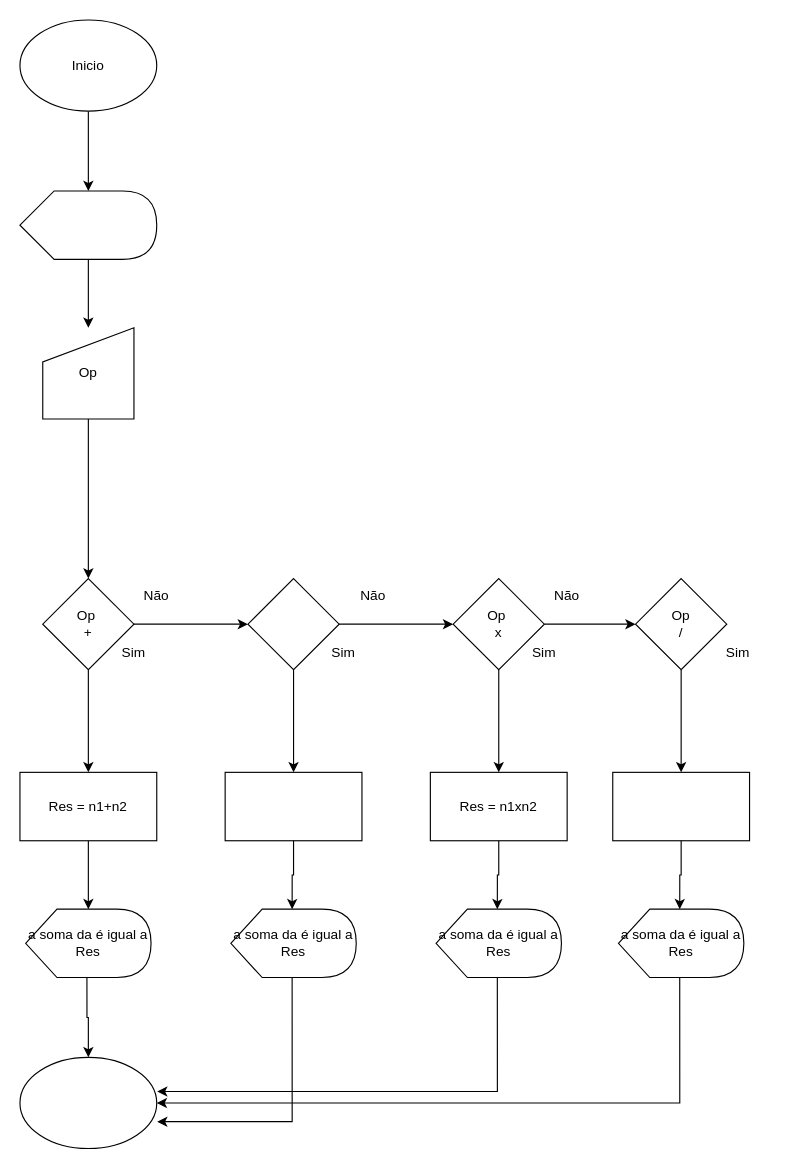
Image size: 792x1169. Some labels were removed from this diagram. Each missing label, with the centre of its shape:
"Digite a operação" goes at (88,224).
"FIm" goes at (88,1102).
"Op -" goes at (293,623).
"Res = n1-n2" goes at (293,806).
"Res = n1/n2" goes at (681,806).
